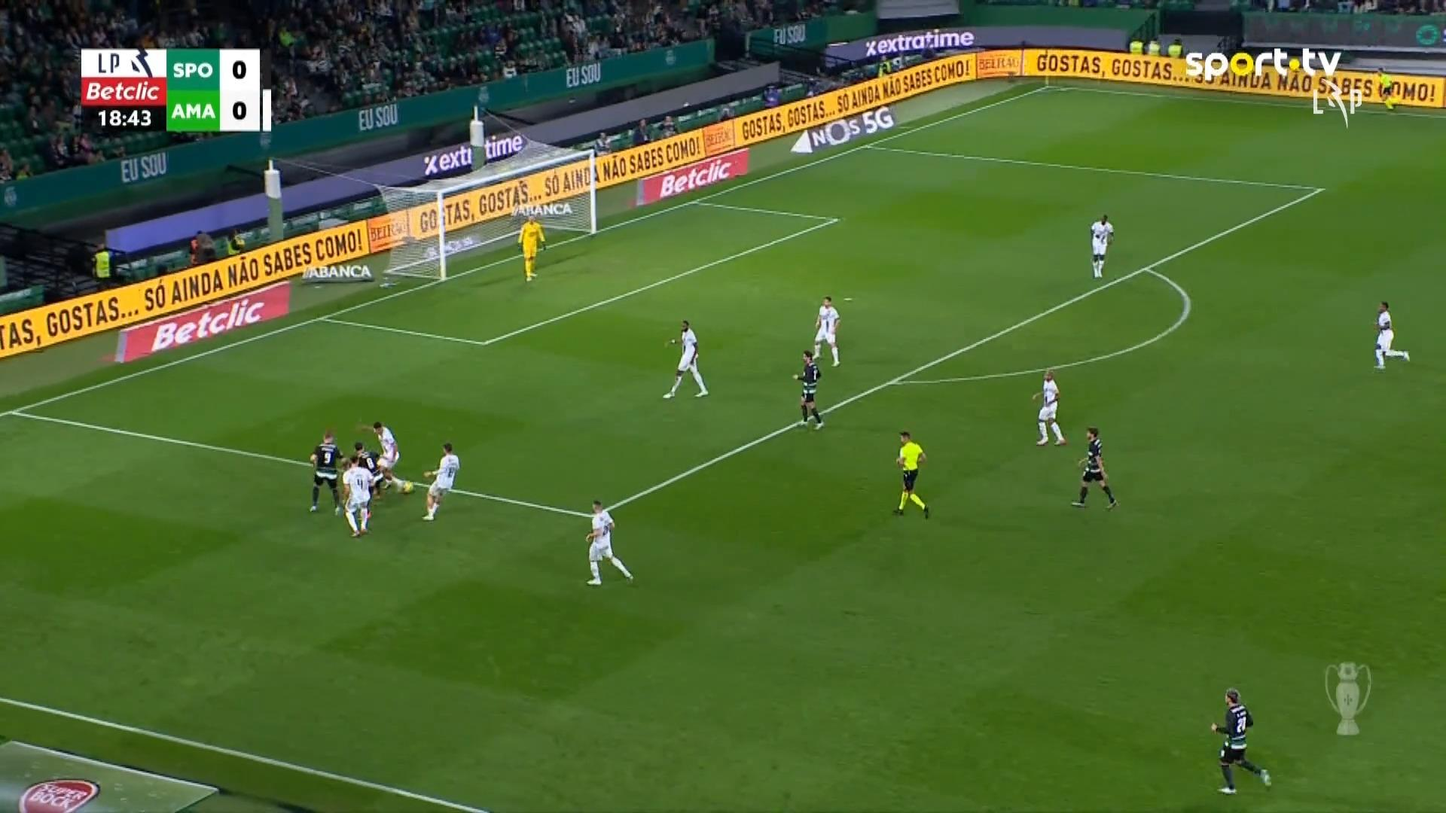ball: (399, 480, 414, 494)
goalkeeper: (517, 214, 546, 281)
player: (1210, 687, 1271, 794), (584, 499, 633, 586), (1070, 426, 1118, 510), (661, 319, 709, 399), (420, 442, 459, 520), (308, 431, 343, 515), (340, 455, 374, 537), (359, 420, 399, 489), (1031, 369, 1066, 446), (792, 349, 824, 430), (1372, 300, 1409, 370), (812, 295, 841, 367), (352, 441, 383, 498), (1089, 213, 1115, 278)
referee: (892, 430, 930, 519), (1377, 67, 1395, 113)
